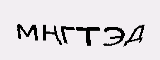Г: (59, 18, 77, 48)
Д: (125, 21, 147, 50)
М: (15, 17, 41, 42)
Т: (74, 22, 100, 48)
Э: (100, 21, 123, 47)
Ң: (40, 21, 61, 47)
